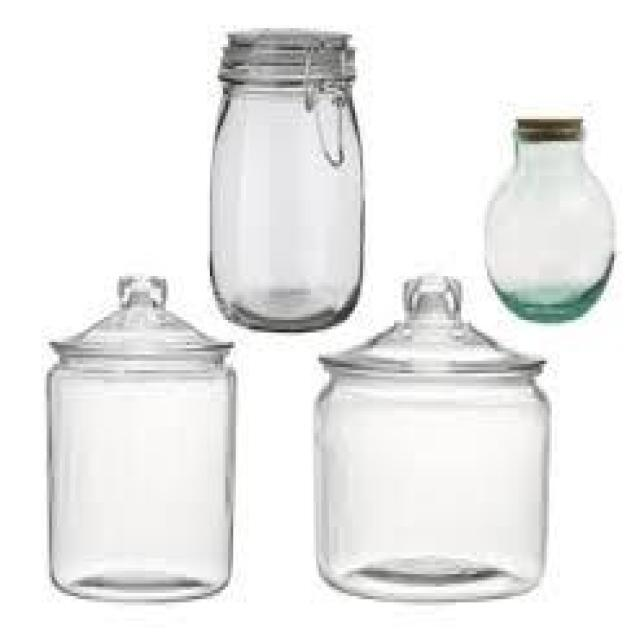Glass: (311, 268, 552, 604), (44, 271, 240, 607), (208, 27, 366, 334), (479, 114, 618, 326)
